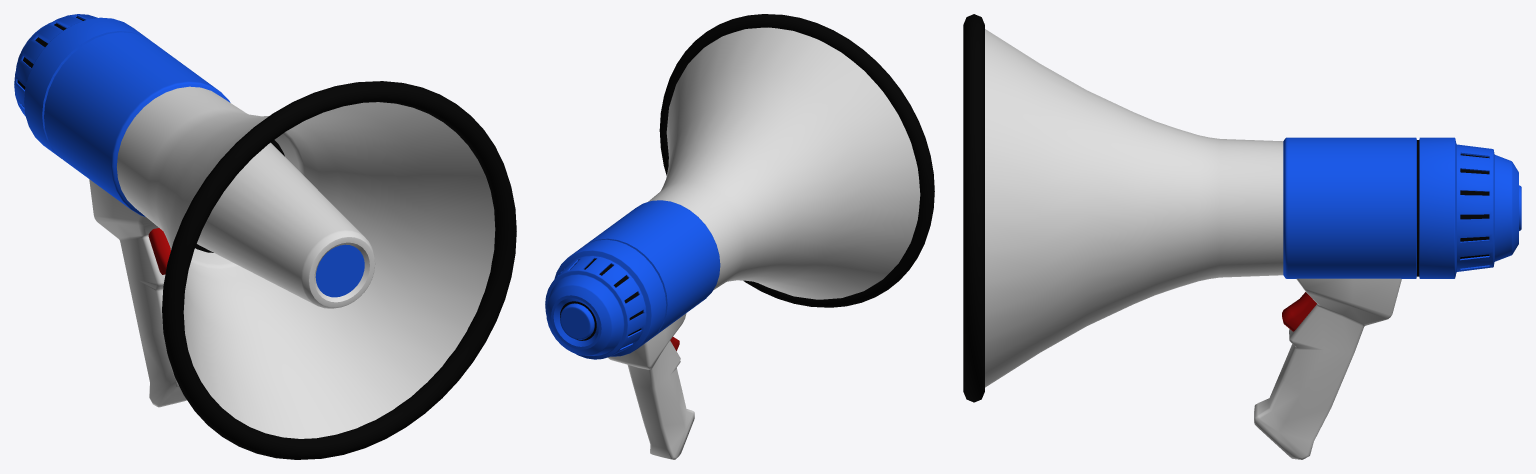
Rendered from Megaphone.fbx.
3 views of the same model, side by side, from view 1: azimuth 30°, elevation 25°; view 2: azimuth 150°, elevation 25°; view 3: azimuth 270°, elevation 25° (orthographic). The views are drawn at different scales.
Parts seen in each view (by area): view 1: Megaphone, Megaphone Trigger; view 2: Megaphone; view 3: Megaphone, Megaphone Trigger.
Part boxes in pixels (x1=…): Megaphone: x1=14, y1=14, x2=516, y2=459; Megaphone Trigger: x1=148, y1=228, x2=170, y2=274; Megaphone: x1=545, y1=14, x2=934, y2=459; Megaphone: x1=963, y1=14, x2=1521, y2=459; Megaphone Trigger: x1=1282, y1=292, x2=1316, y2=331.
Size of the model in its own units: 23.01 by 27.55 by 33.01.
